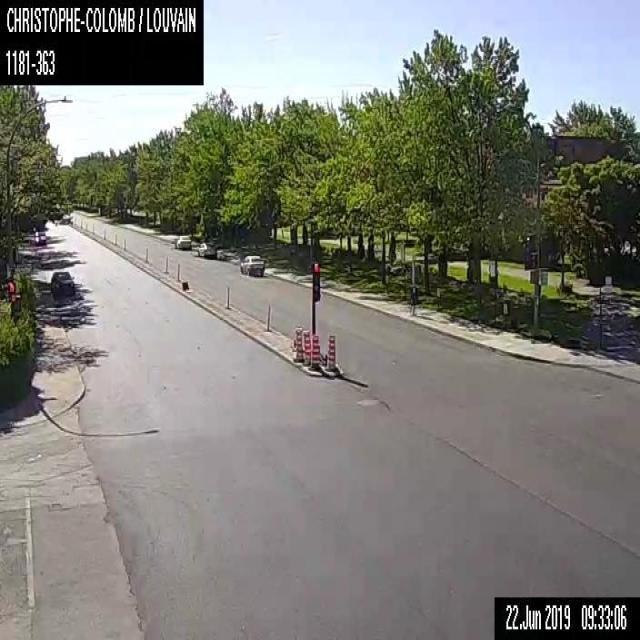construction: (308, 334, 321, 369), (325, 335, 337, 370), (292, 326, 304, 361), (302, 329, 310, 364)
vehicle: (50, 270, 76, 298), (239, 252, 265, 273), (197, 240, 217, 256), (175, 234, 191, 248), (34, 229, 46, 243)
